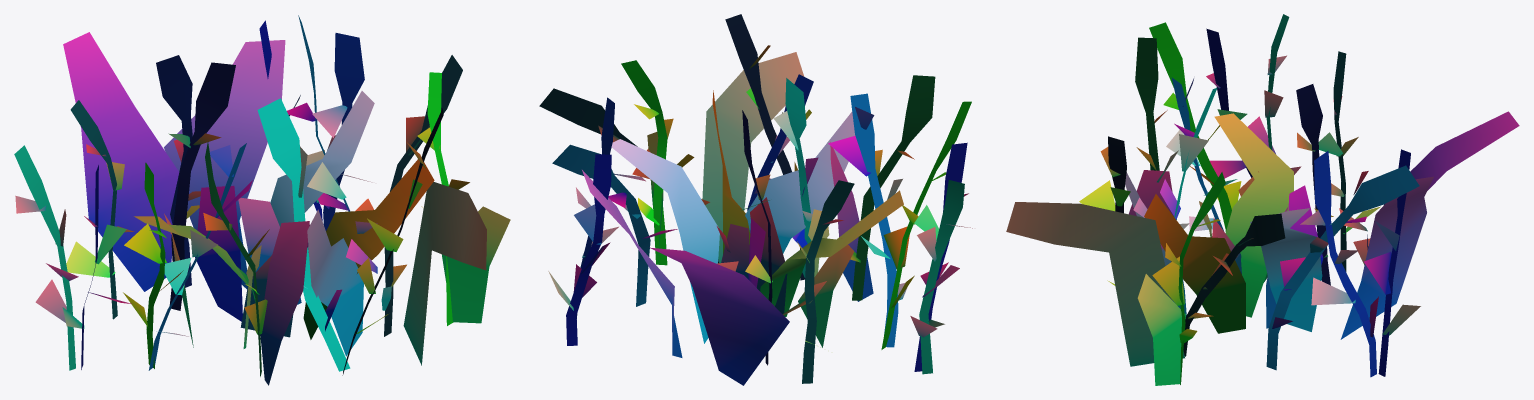
The model's file is Matted_Pratia_uegjcflia_Mid_uegjcflia_VarE_LOD1.fbx.
The picture shows the model from 3 angles, left to right: view 1: azimuth 30°, elevation 25°; view 2: azimuth 150°, elevation 25°; view 3: azimuth 270°, elevation 25°; orthographic projection. The views are drawn at different scales.
Parts seen in each view (by area): view 1: _7414_VarE_LOD2; view 2: _7414_VarE_LOD2; view 3: _7414_VarE_LOD2.
Part boxes in pixels (x1,y1,x2,y2): _7414_VarE_LOD2: (14, 15, 510, 385); _7414_VarE_LOD2: (539, 14, 972, 385); _7414_VarE_LOD2: (1006, 14, 1519, 385).
Bounding box in the file's own units: 13.99 × 7.88 × 14.98.
